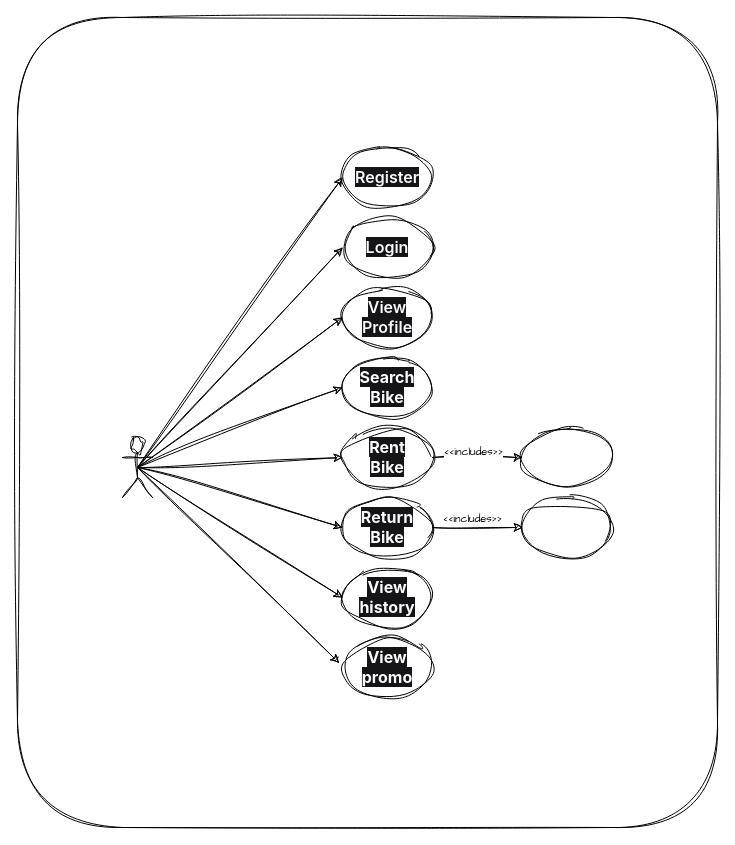
Image size: 735x845. Some labels were removed from this diagram. The shapes that lost their labels are listed below. From the top down, each one's box as (x1, y1, x2, y2) in pixels, then its label:
(122, 436, 152, 498): User
(522, 426, 612, 488): Unlock via QR
(522, 496, 612, 558): Pay
